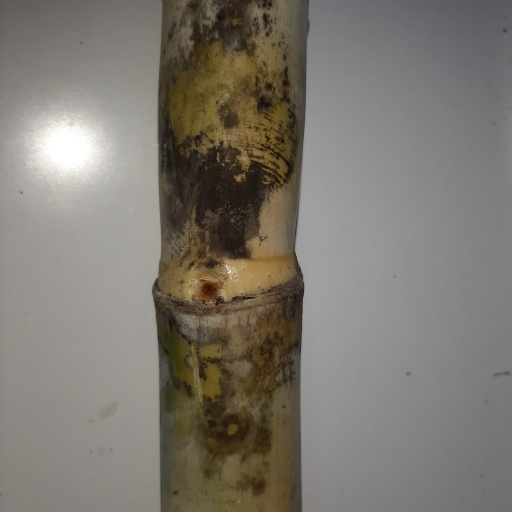Damage_Bud: (191, 278, 221, 303)
